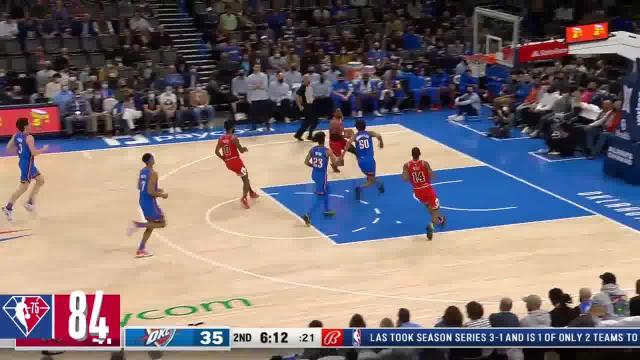ball-handler: (319, 109, 366, 173)
player: (2, 115, 47, 226), (398, 143, 448, 240), (214, 119, 261, 211), (335, 118, 385, 201), (128, 150, 166, 259), (302, 128, 335, 223)
